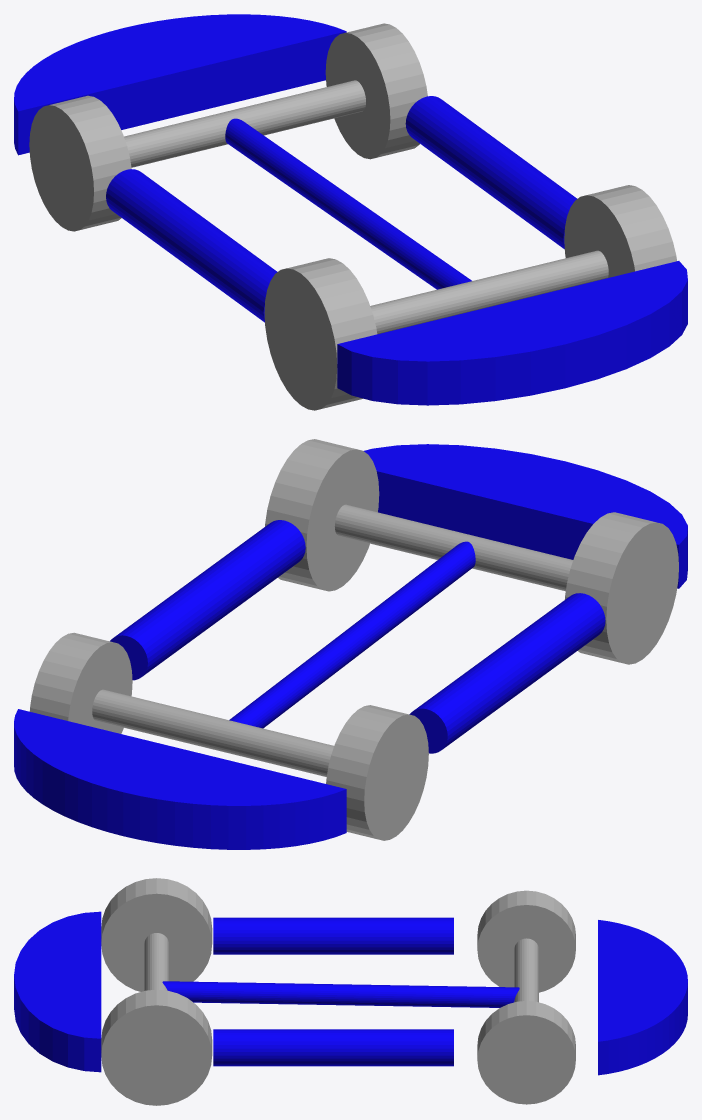
The model's file is blue_car.fbx.
3 views of the same model, one above another, from view 1: azimuth 30°, elevation 25°; view 2: azimuth 150°, elevation 25°; view 3: azimuth 270°, elevation 25° (orthographic). The views are drawn at different scales.
Visible parts, largest first — view 1: estrutura_a_volta, rodas frente, rodas tras, eixo meio; view 2: estrutura_a_volta, rodas tras, rodas frente, eixo meio; view 3: estrutura_a_volta, rodas tras, rodas frente, eixo meio.
Boxes of the visible parts, x1,y1,x2,y2 form: estrutura_a_volta: [14, 14, 687, 405]; rodas frente: [29, 23, 427, 231]; rodas tras: [264, 185, 676, 410]; eixo meio: [225, 118, 471, 289]; estrutura_a_volta: [14, 444, 687, 849]; rodas tras: [265, 439, 678, 664]; rodas frente: [29, 632, 428, 840]; eixo meio: [229, 541, 475, 728]; estrutura_a_volta: [14, 911, 687, 1075]; rodas tras: [101, 878, 212, 1105]; rodas frente: [477, 890, 575, 1104]; eixo meio: [162, 981, 519, 1007].
Bounding box in the file's own units: 488 × 180 × 1093.
